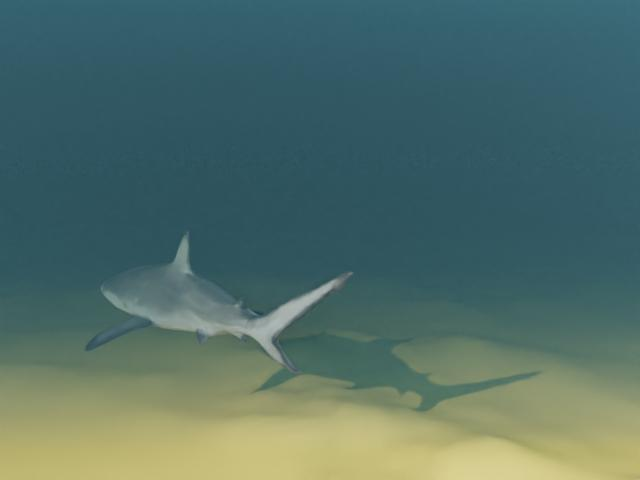Carribean Shark.001: (84, 230, 353, 374)
